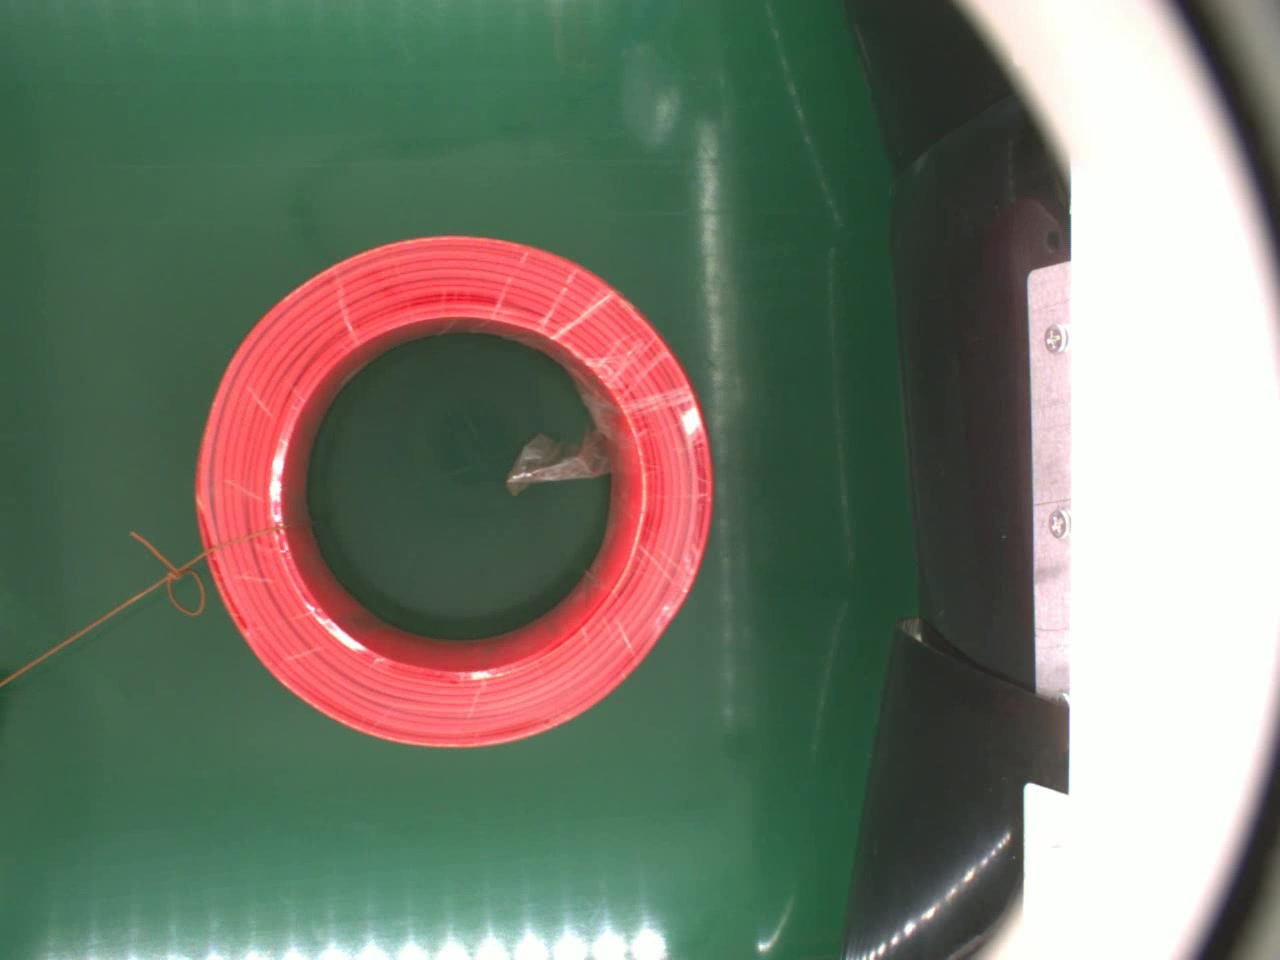red: (195, 231, 715, 753)
